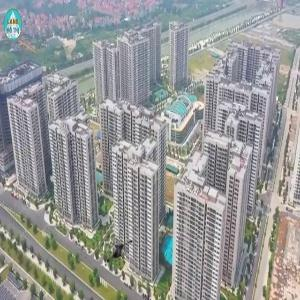drone: (96, 230, 141, 275)
